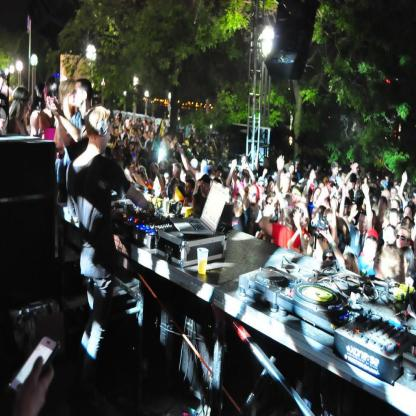board: (170, 182, 230, 236), (198, 245, 210, 272)
